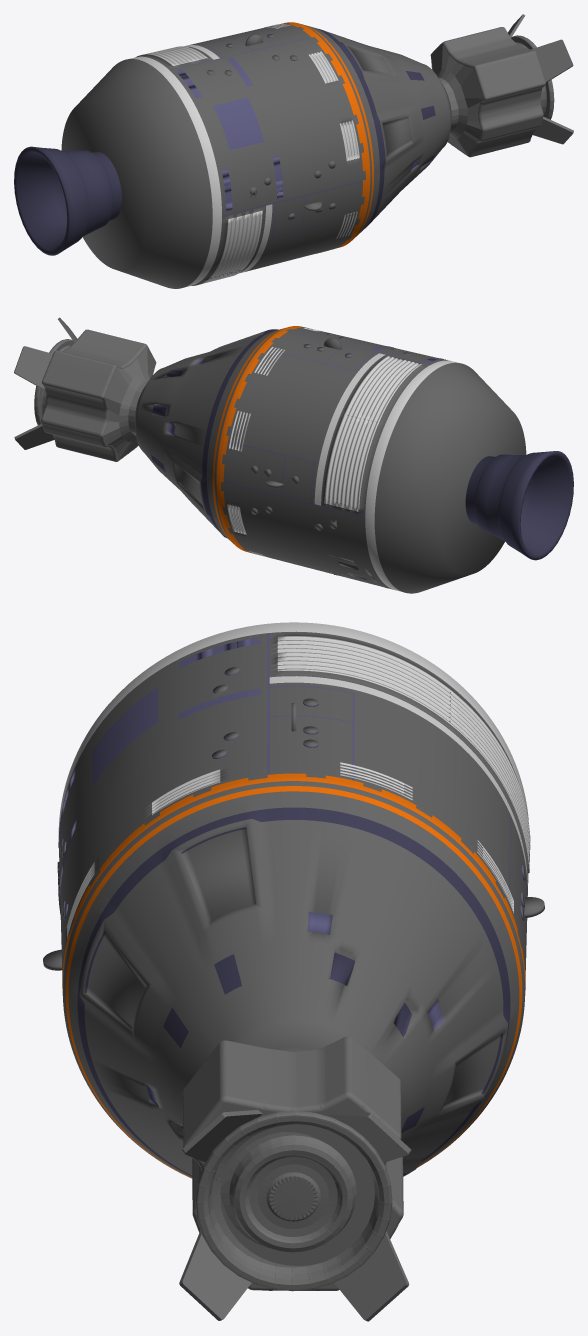
File: SpaceCraft1.fbx
3 views of the same model, one above another, from view 1: azimuth 30°, elevation 25°; view 2: azimuth 150°, elevation 25°; view 3: azimuth 270°, elevation 25° (orthographic). The views are drawn at different scales.
Visible parts, largest first — view 1: Apollo.001, Cylinder.021; view 2: Apollo.001, Cylinder.021; view 3: Apollo.001, Cylinder.021.
Boxes of the visible parts, bbox=[...] form: Apollo.001: bbox=[14, 22, 451, 288]; Cylinder.021: bbox=[430, 14, 573, 157]; Apollo.001: bbox=[135, 326, 573, 593]; Cylinder.021: bbox=[14, 317, 156, 461]; Apollo.001: bbox=[43, 622, 544, 1178]; Cylinder.021: bbox=[179, 1036, 411, 1321].
Size of the model in its own units: 4120 by 1784 by 1773.
